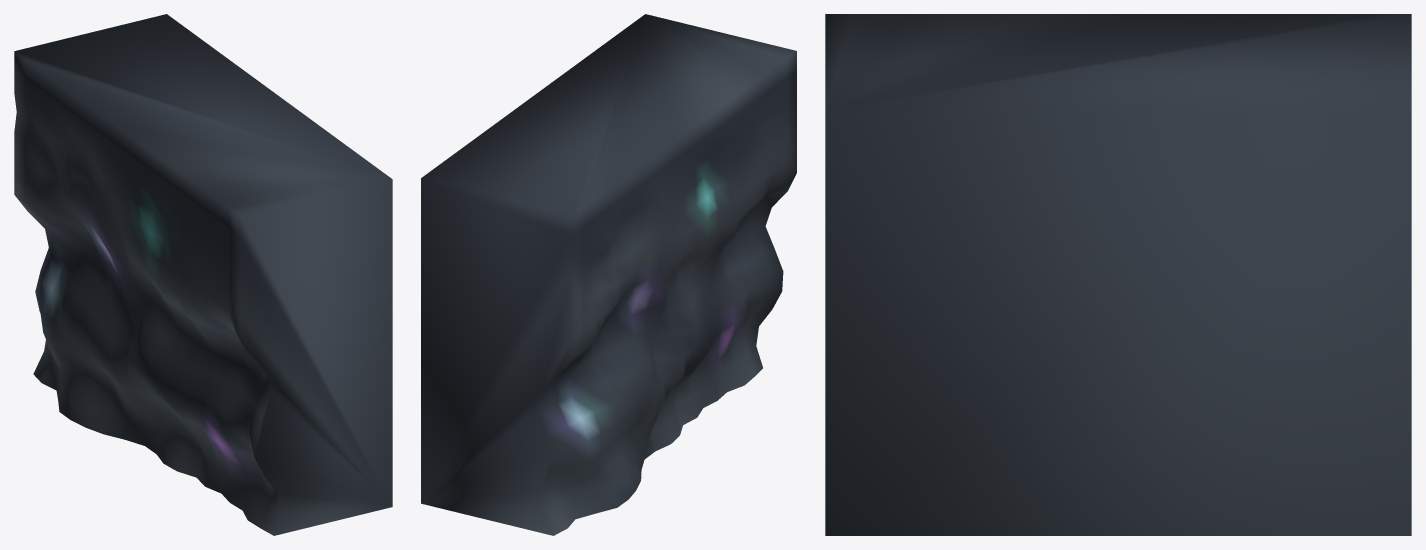
Rendered from Cave_Wall.glb.
3 renders of one model, left to right at view 1: azimuth 30°, elevation 25°; view 2: azimuth 150°, elevation 25°; view 3: azimuth 270°, elevation 25°, orthographic. The views are drawn at different scales.
Parts seen in each view (by area): view 1: Cave_Wall; view 2: Cave_Wall; view 3: Cave_Wall.
Part boxes in pixels (left/top/right/bottom): Cave_Wall: left=14, top=14, right=392, bottom=535; Cave_Wall: left=421, top=14, right=796, bottom=535; Cave_Wall: left=825, top=14, right=1411, bottom=535.
Size of the model in its own units: 7.8 by 16 by 20.
